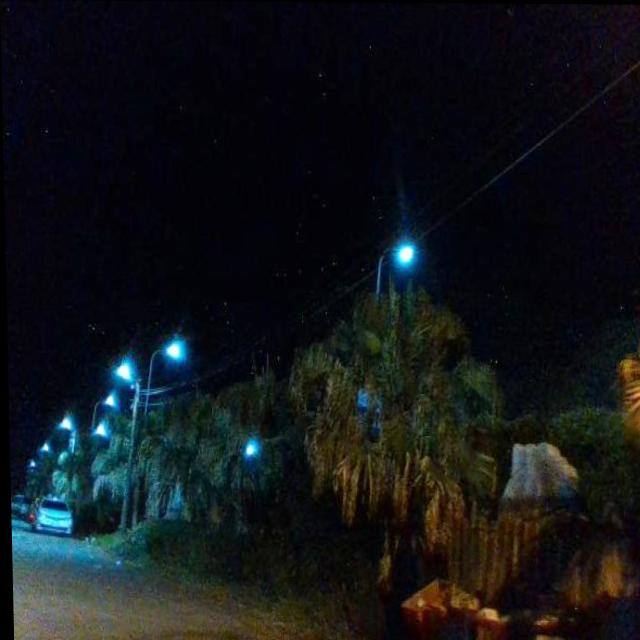pollute: (390, 439, 640, 640)
